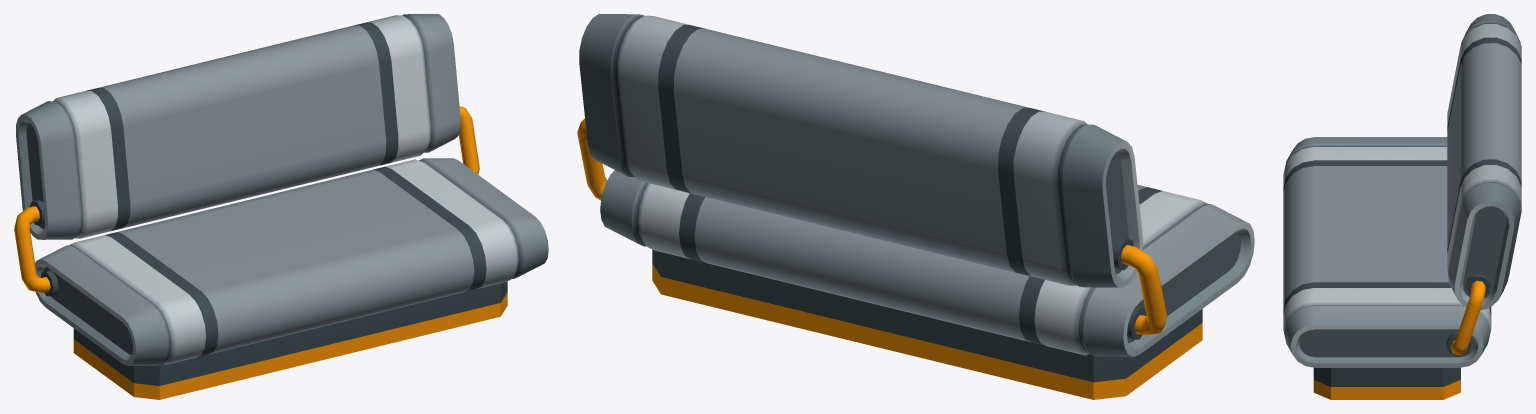
The model's file is Sofa_005.glb.
3 views of the same model, side by side, from view 1: azimuth 30°, elevation 25°; view 2: azimuth 150°, elevation 25°; view 3: azimuth 270°, elevation 25° (orthographic). The views are drawn at different scales.
Visible parts, largest first — view 1: Sofa_005; view 2: Sofa_005; view 3: Sofa_005.
Boxes of the visible parts, x1,y1,x2,y2 form: Sofa_005: (14,14,548,399); Sofa_005: (577,14,1254,399); Sofa_005: (1283,14,1521,399).
Bounding box in the file's own units: 2.02 × 0.9747 × 0.9851.
Materials: 1 (1 with a texture image).
